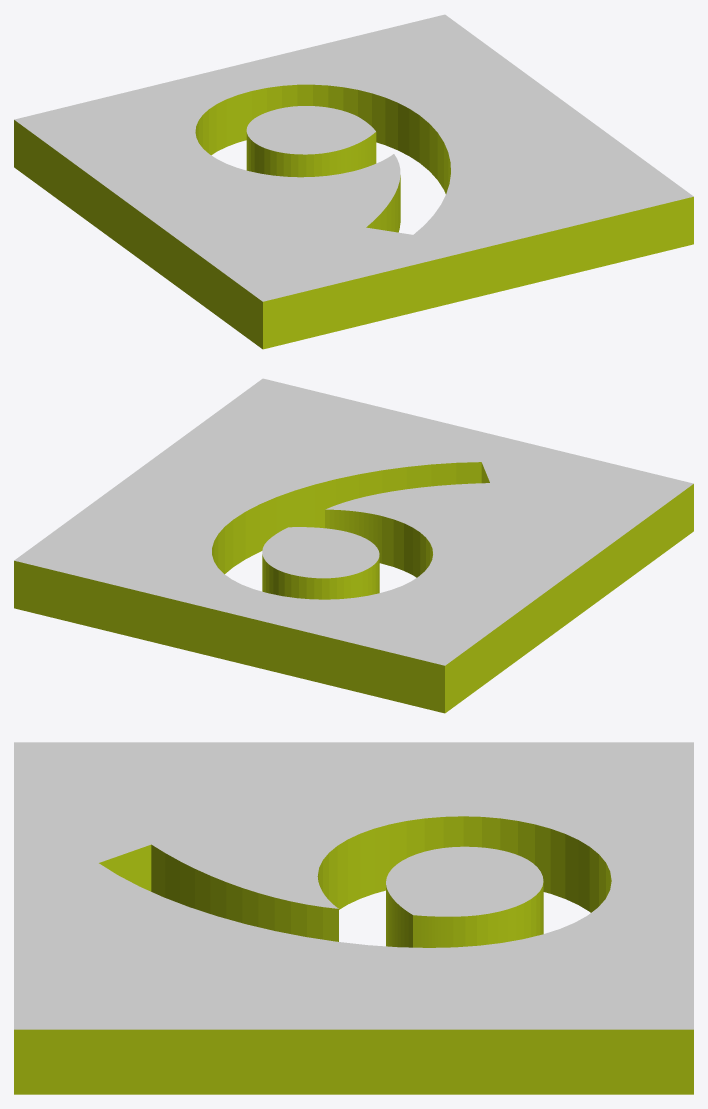
The model's file is stracout9.fbx.
The picture shows the model from 3 angles, top to bottom: view 1: azimuth 30°, elevation 25°; view 2: azimuth 150°, elevation 25°; view 3: azimuth 270°, elevation 25°; orthographic projection. The views are drawn at different scales.
Parts seen in each view (by area): view 1: 9; view 2: 9; view 3: 9.
Boxes of the visible parts, left/top/right/bottom form: 9: left=14, top=14, right=693, bottom=349; 9: left=14, top=378, right=693, bottom=713; 9: left=14, top=742, right=693, bottom=1094.
Size of the model in its own units: 464 by 49.06 by 464.
